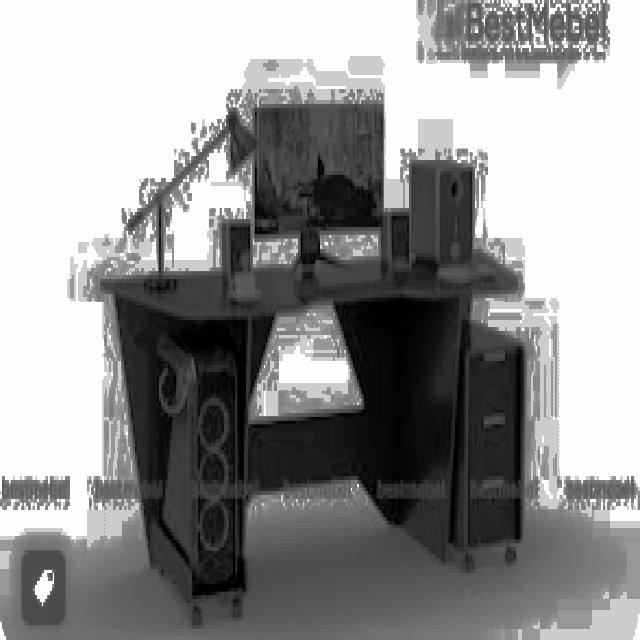table: (98, 246, 525, 625)
